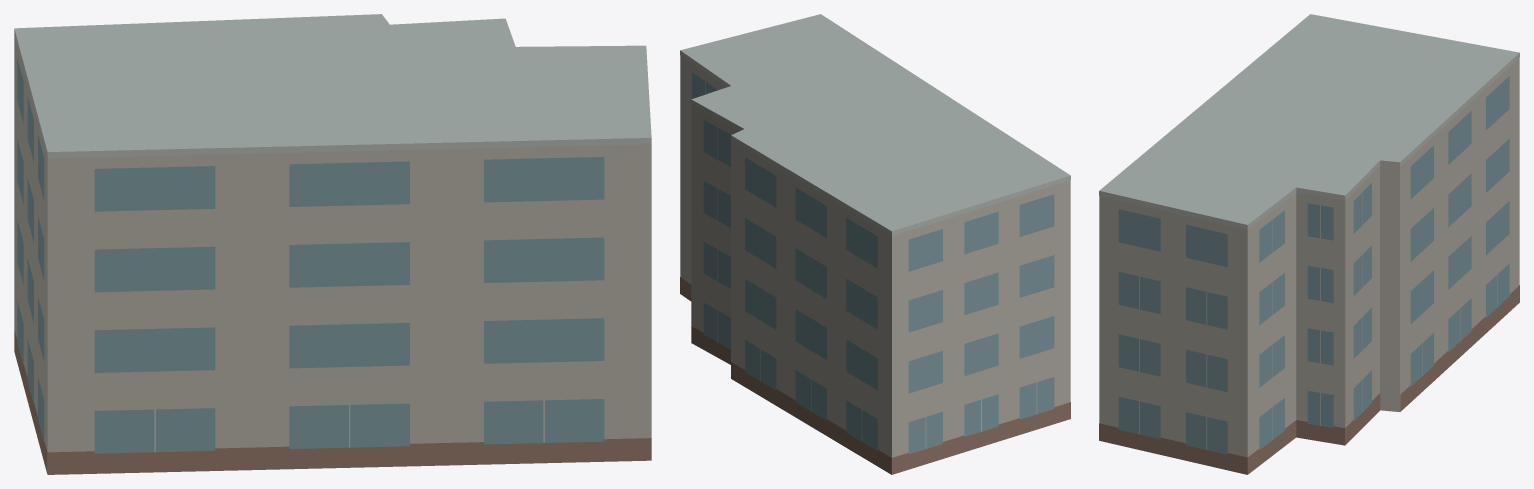
Rendered from survey-upis-32645031.glb.
3 views of the same model, side by side, from view 1: azimuth 30°, elevation 25°; view 2: azimuth 150°, elevation 25°; view 3: azimuth 270°, elevation 25° (orthographic). The views are drawn at different scales.
Parts seen in each view (by area): view 1: survey-upis-32645031.tmp; view 2: survey-upis-32645031.tmp; view 3: survey-upis-32645031.tmp.
Part boxes in pixels (box(x1,y1,x2,y2)): survey-upis-32645031.tmp: box(14, 14, 651, 474); survey-upis-32645031.tmp: box(680, 14, 1070, 474); survey-upis-32645031.tmp: box(1099, 14, 1519, 474).
Size of the model in its own units: 22.09 by 12.2 by 18.62.
